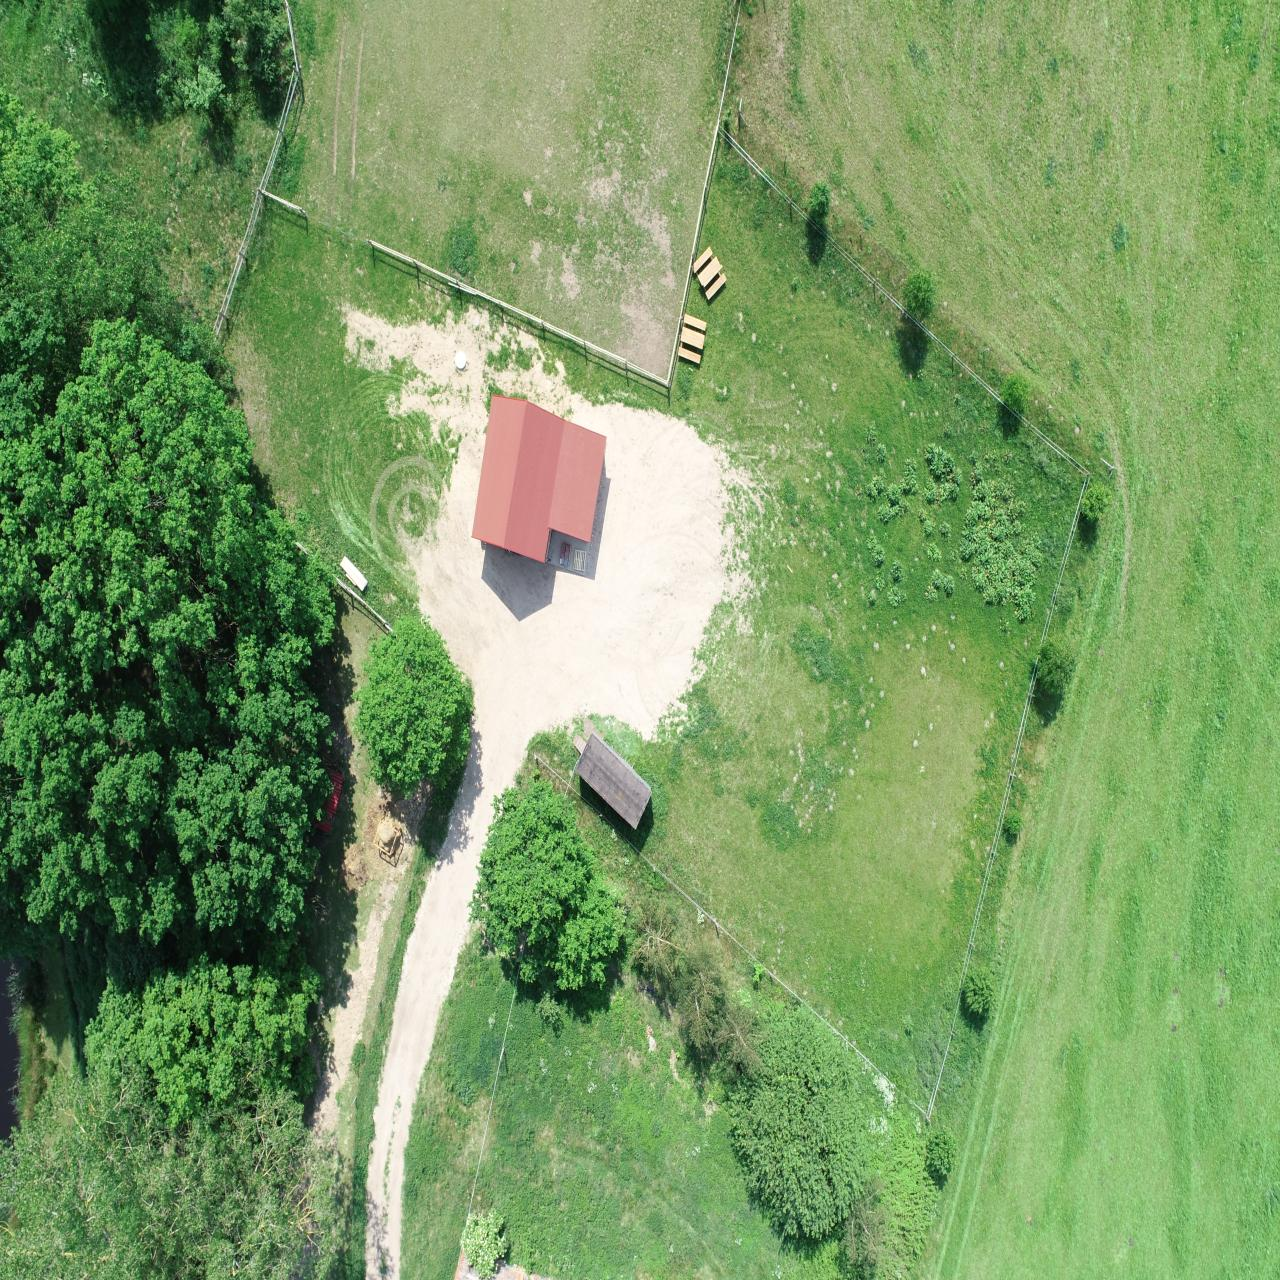cow: (1216, 386, 1269, 468)
